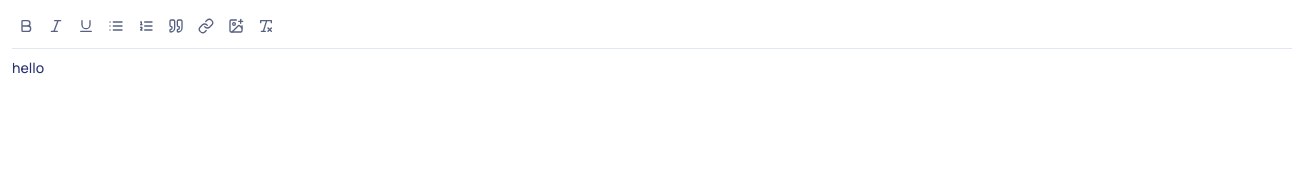
it: editor toolbar commands › Bold marks the selected text
Later steps or results of the test are not shown.
Click the button named "Bold". click: click(26, 26)
box: [12,12,40,40]
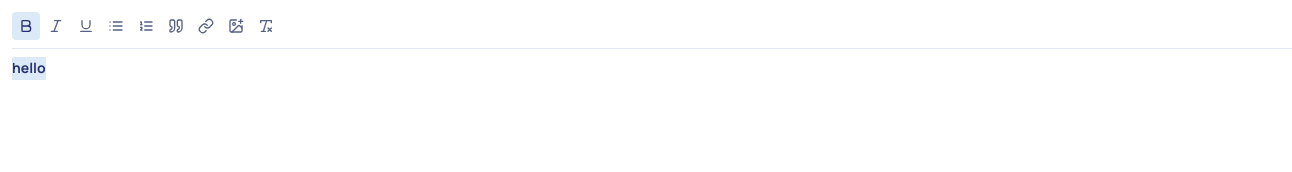
Result: the button named "Bold" is pressed at [12,12,40,40]
